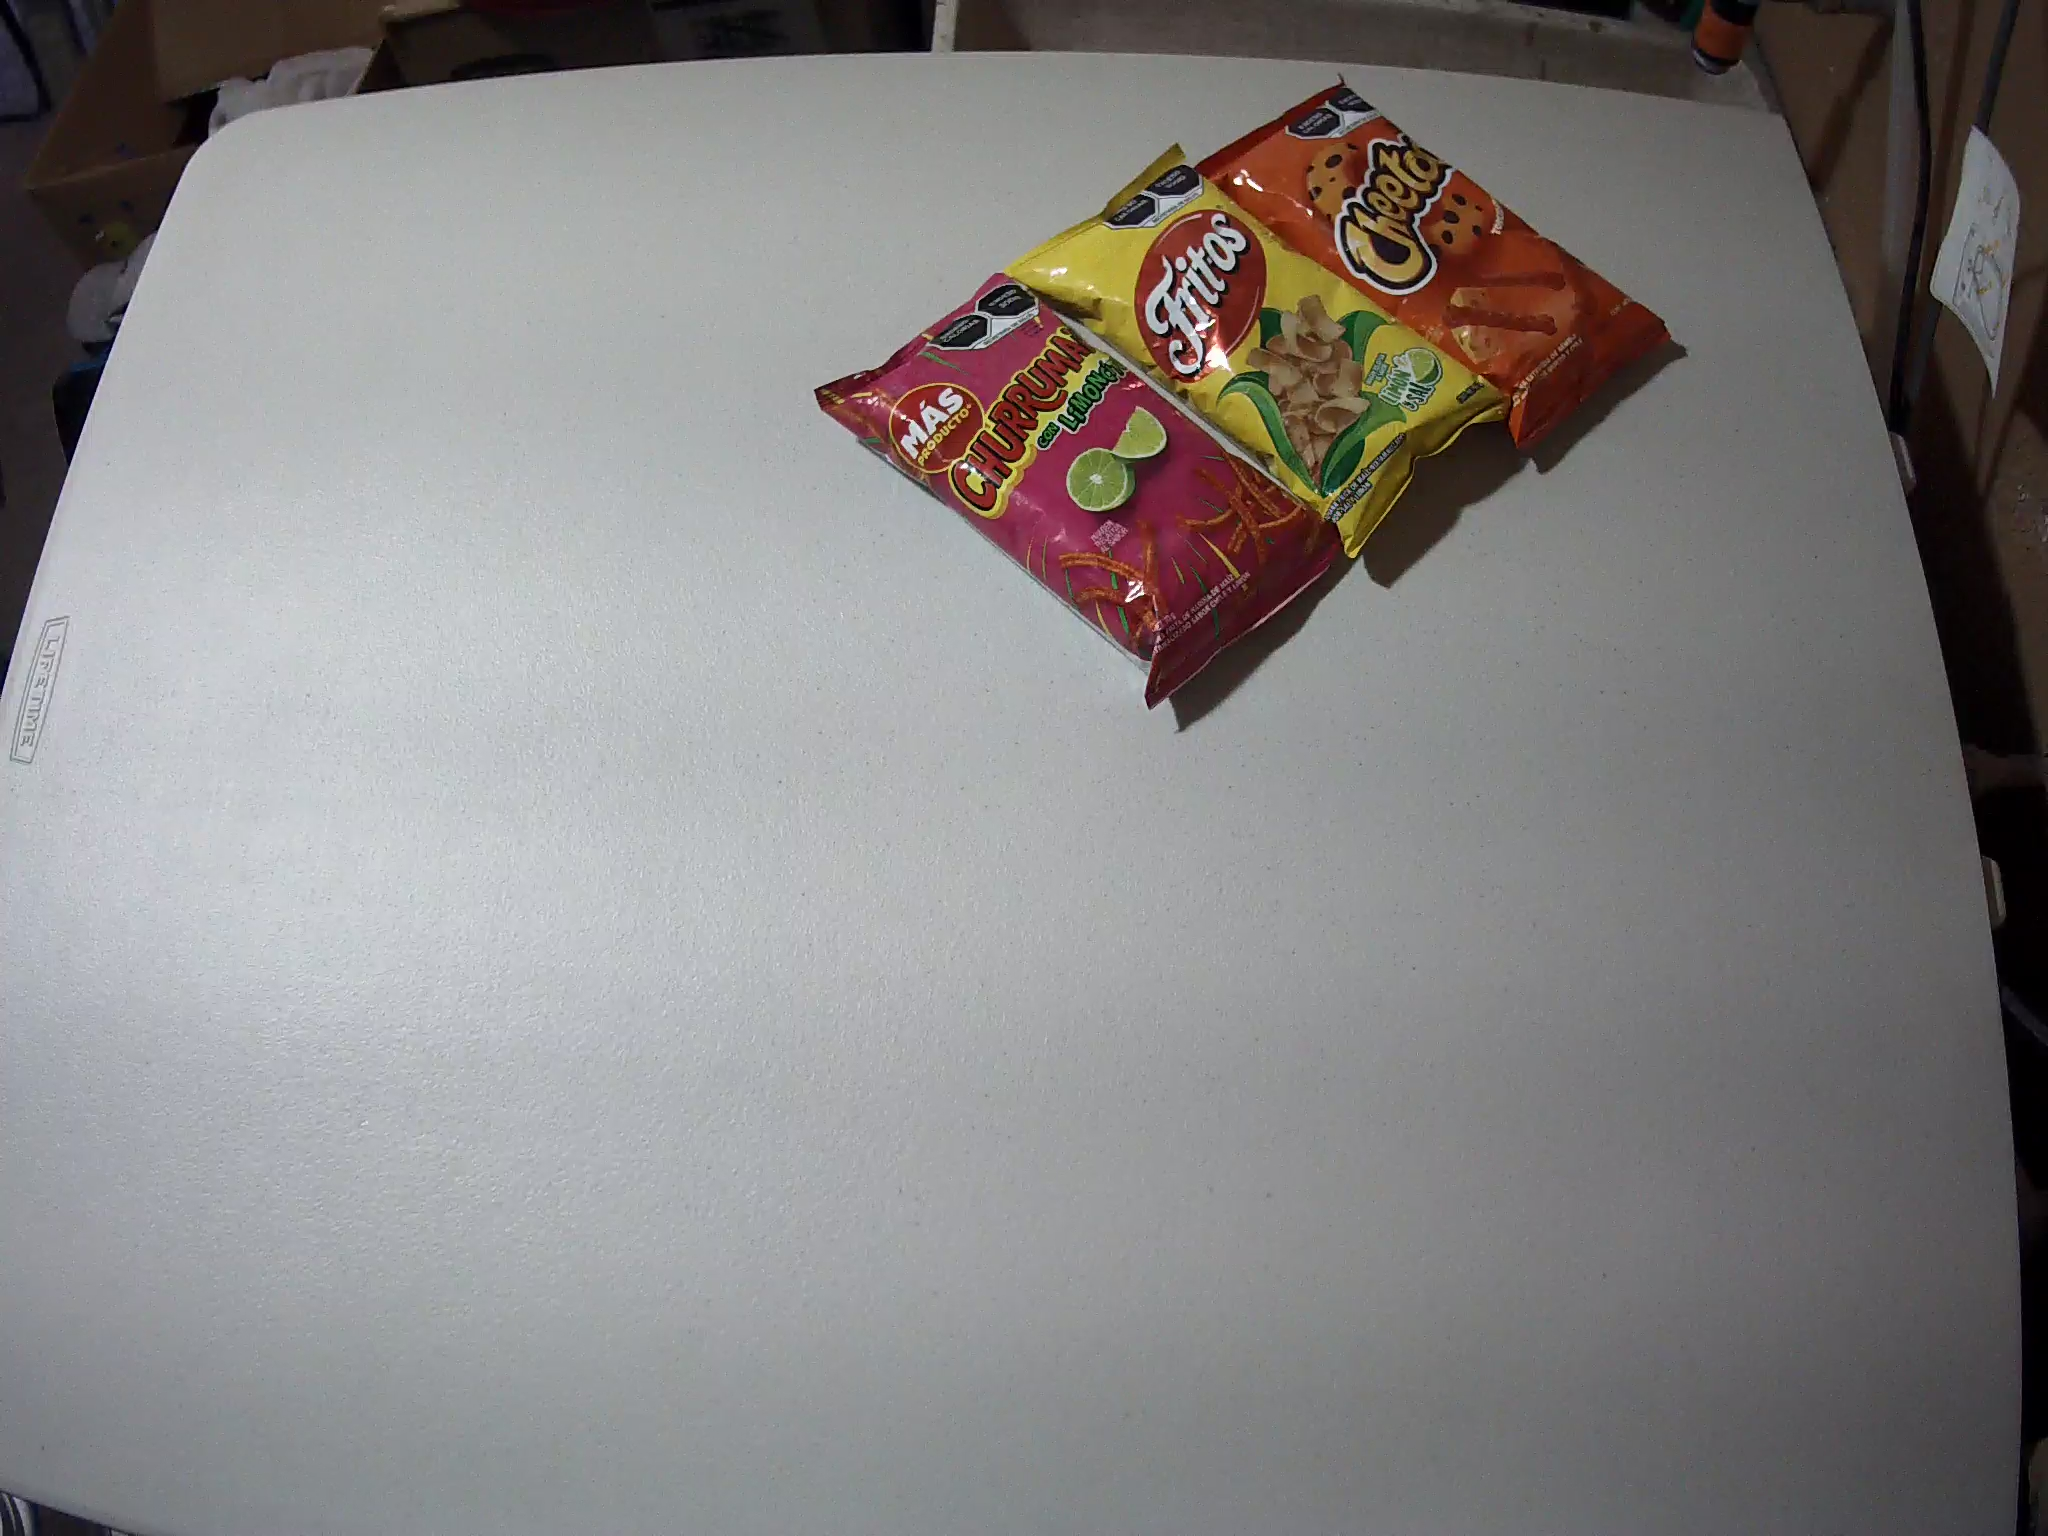CheetosTorciditos_55_F: (1184, 74, 1677, 452)
Churrumais_70_F: (813, 273, 1359, 715)
FritosSalLimon_65_F: (1001, 139, 1509, 557)
